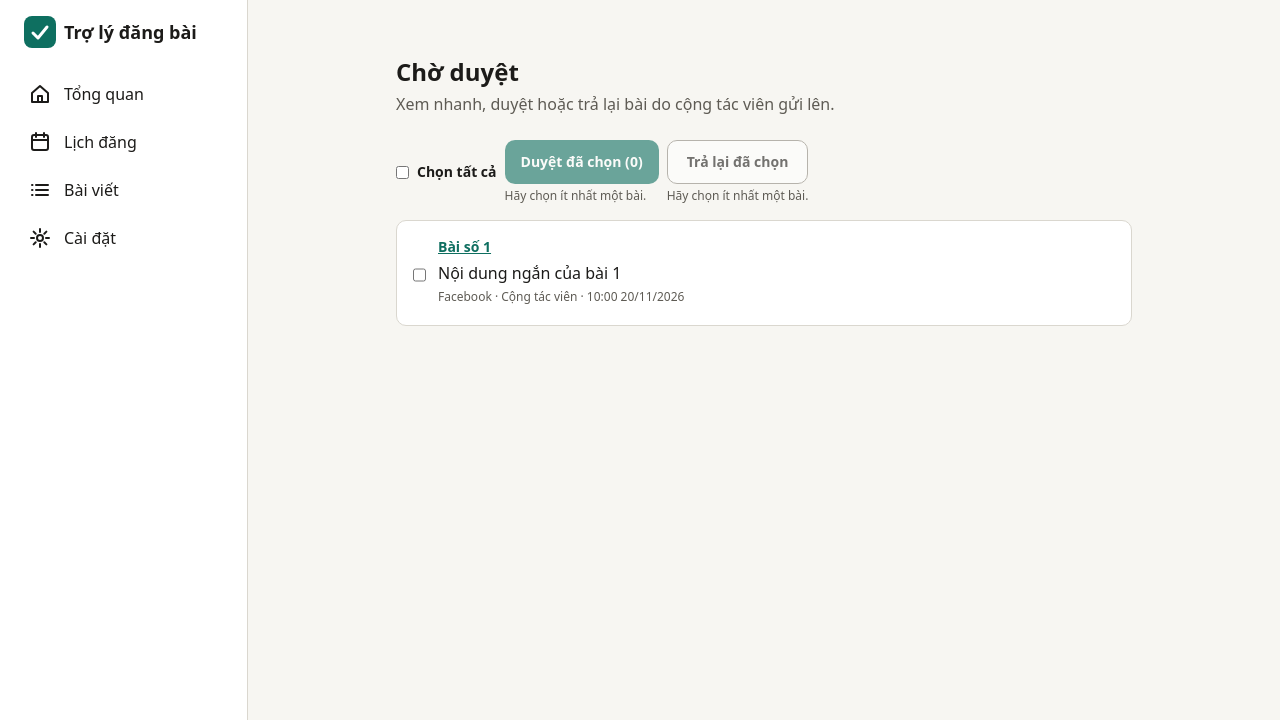
Test: PendingPage › trả lại: ghi chú bắt buộc (nút khóa tới khi nhập), gửi ghi chung cho các bài đã chọn
The width and height of the screenshot is (1280, 720).
Expected: the link "Bài số 1" is shown, [438,237,491,256]
Click the checkbox named "Chọn Bài số 1".
click(420, 275)  # box [413,241,426,309]
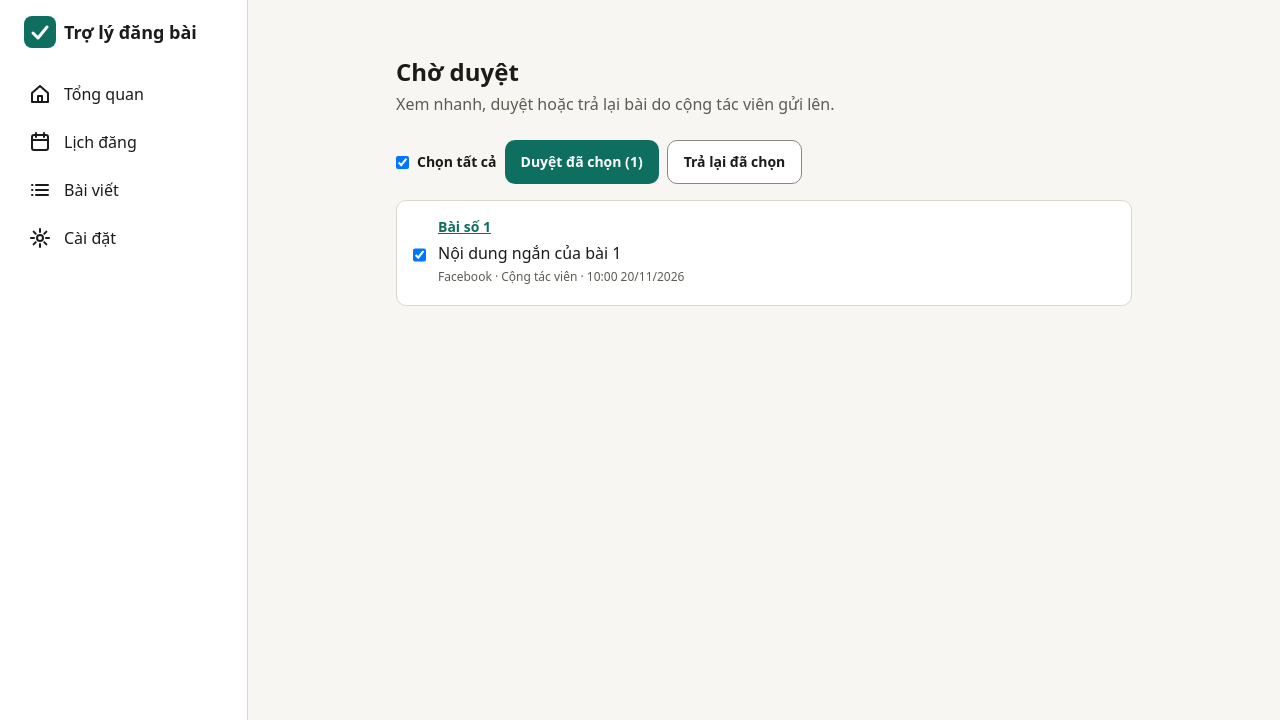
Click the button "Trả lại đã chọn".
click(734, 162)  # box [667,140,802,184]
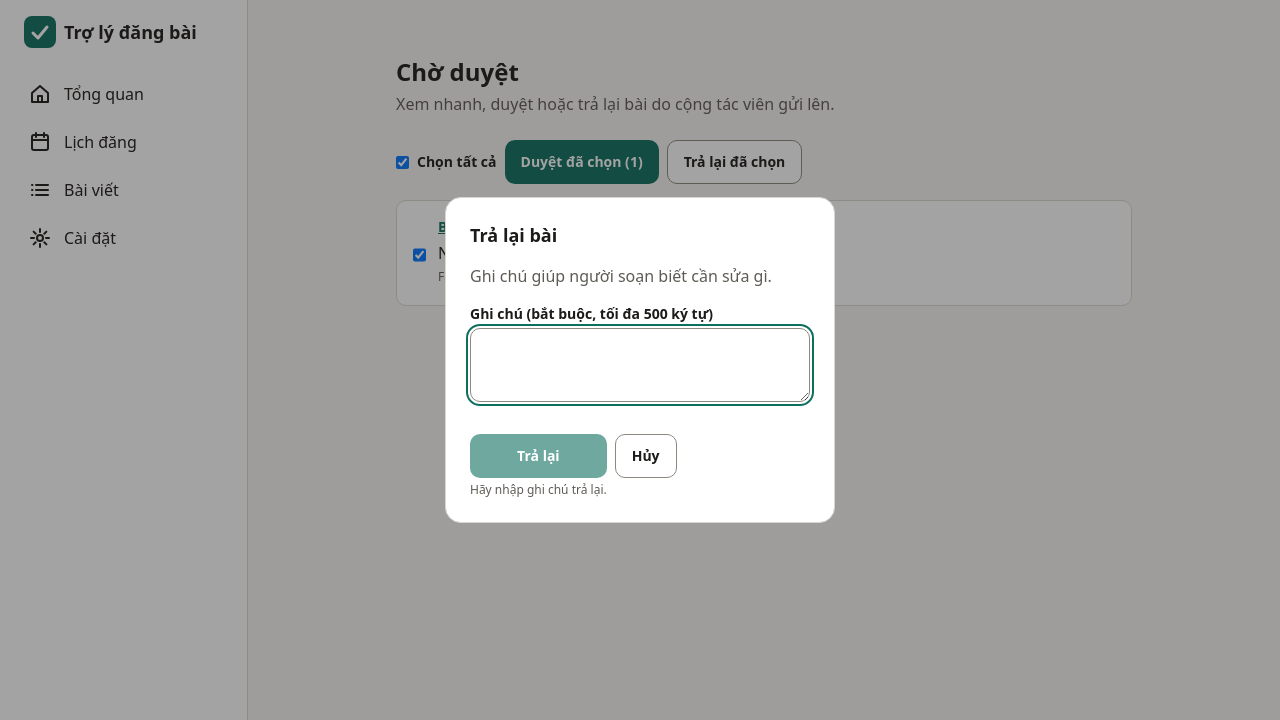
Type "Đổi ảnh bìa" into the text box labelled "Ghi chú (bắt buộc, tối đa 500 ký tự)".
click(640, 365); type("Đổi ảnh bìa")  # box [470,328,810,402]
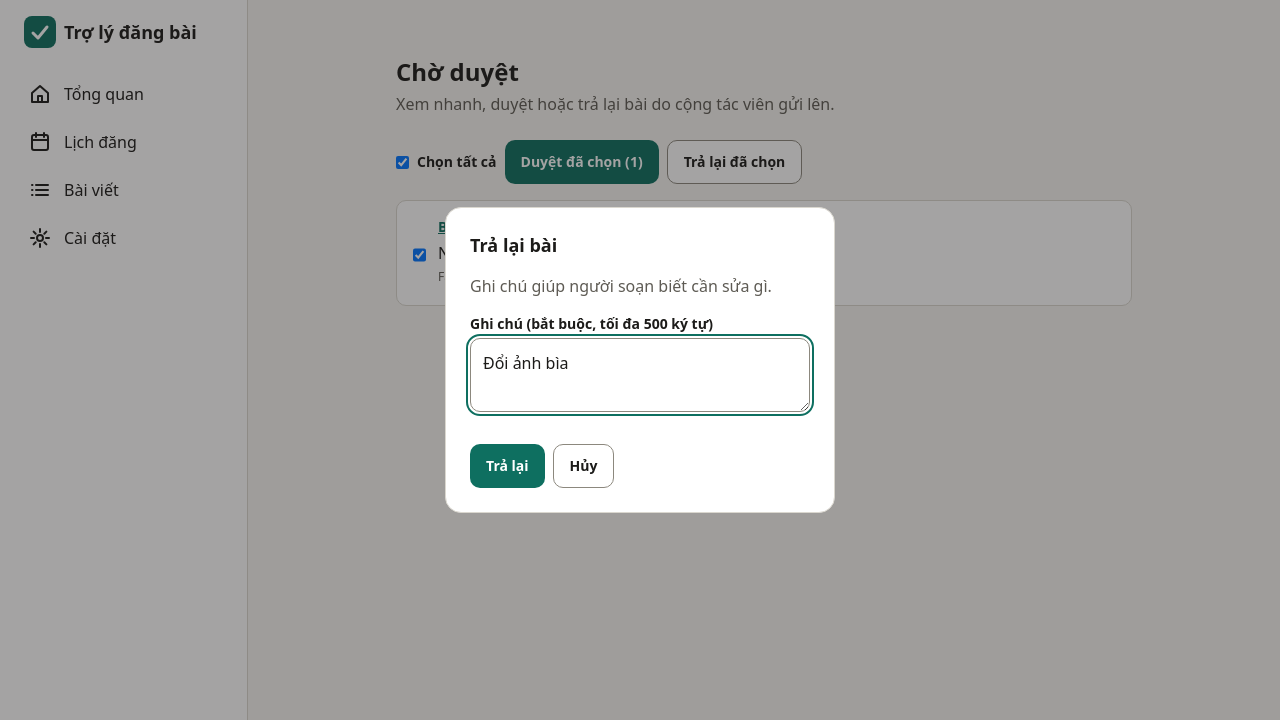
Click the button "Trả lại".
click(507, 466)  # box [470,444,545,488]
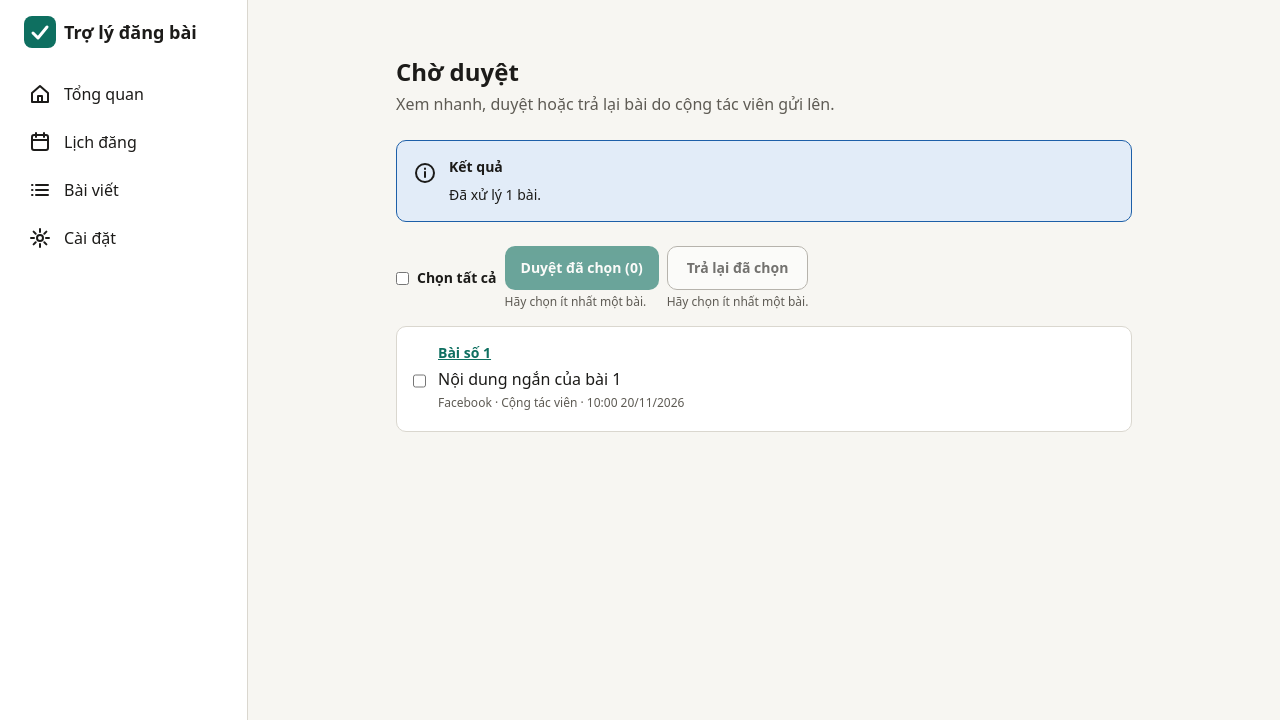
Now the text "Đã xử lý 1 bài." is shown, box [449,185,541,204]
